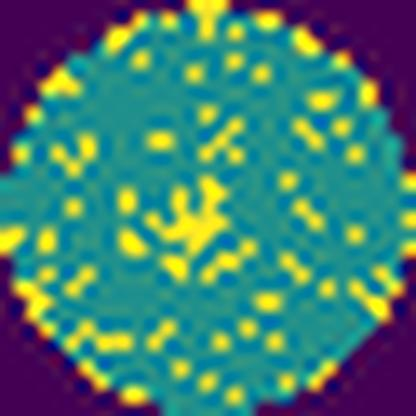Center: (140, 177, 238, 259)
